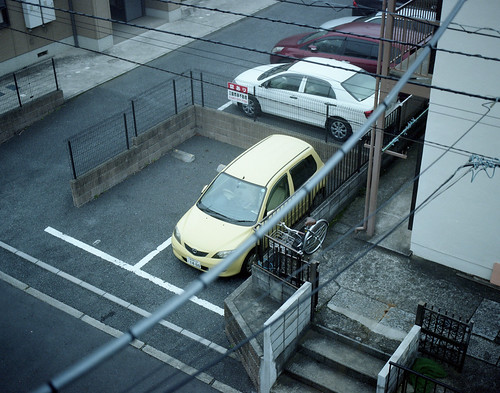car: (162, 134, 332, 276), (225, 51, 396, 132), (262, 24, 436, 82)
street: (1, 32, 201, 393)
